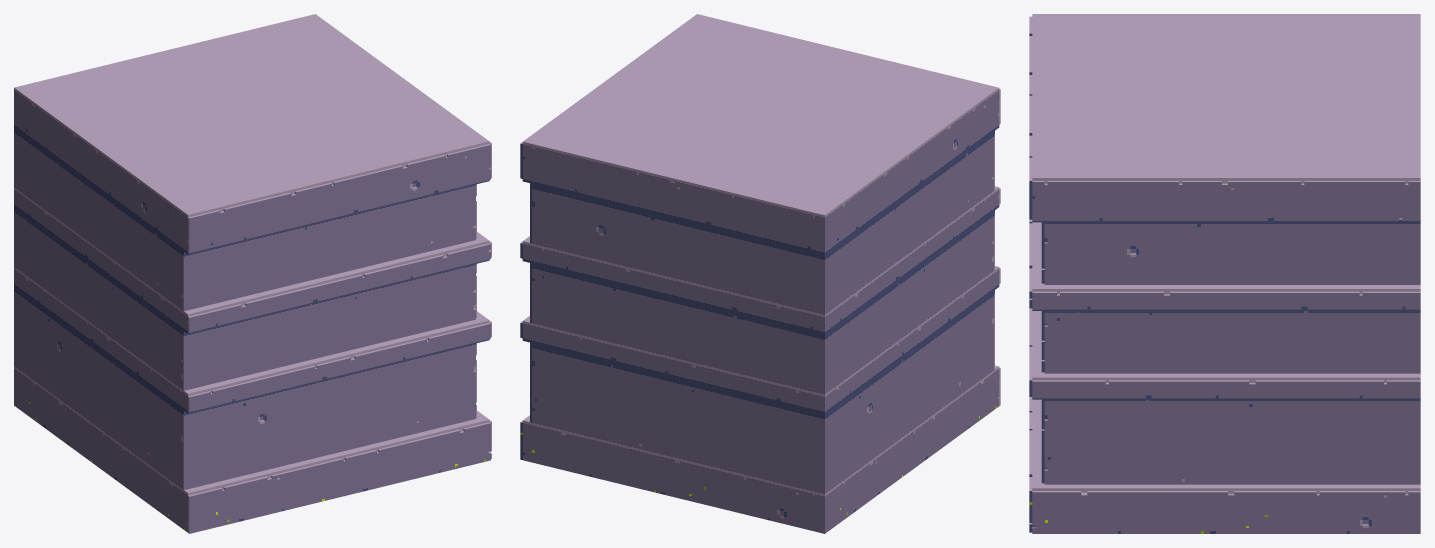
File: library_coreao.fezao.glb
3 renders of one model, left to right at view 1: azimuth 30°, elevation 25°; view 2: azimuth 150°, elevation 25°; view 3: azimuth 270°, elevation 25°, orthographic. The views are drawn at different scales.
Parts seen in each view (by area): view 1: LIBRARY_COREAO; view 2: LIBRARY_COREAO; view 3: LIBRARY_COREAO.
Part boxes in pixels (bbox=[...]): LIBRARY_COREAO: bbox=[14, 14, 491, 533]; LIBRARY_COREAO: bbox=[520, 14, 1000, 533]; LIBRARY_COREAO: bbox=[1029, 14, 1420, 533].
Size of the model in its own units: 8 by 8 by 8.
Materials: 1 (1 with a texture image).
